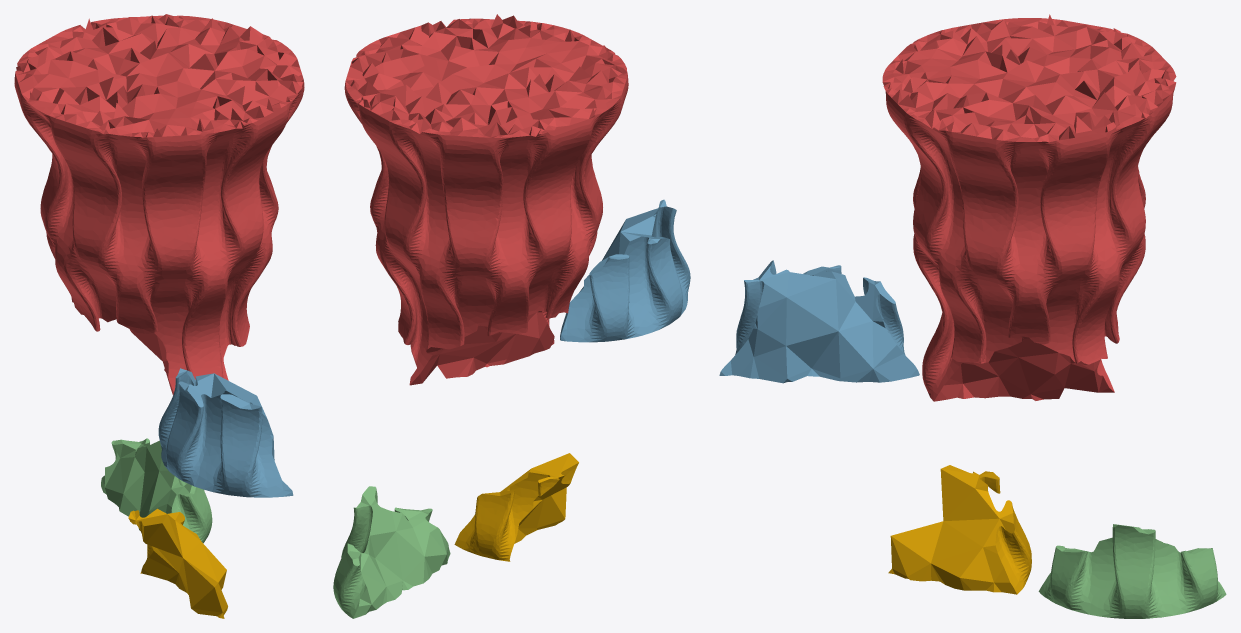
The model's file is mode_6_4pcs_transformed.glb.
3 views of the same model, side by side, from view 1: azimuth 30°, elevation 25°; view 2: azimuth 150°, elevation 25°; view 3: azimuth 270°, elevation 25° (orthographic). The views are drawn at different scales.
Visible parts, largest first — view 1: piece_1.obj, piece_2.obj, piece_3.obj, piece_0.obj; view 2: piece_1.obj, piece_2.obj, piece_3.obj, piece_0.obj; view 3: piece_1.obj, piece_2.obj, piece_3.obj, piece_0.obj.
Part boxes in pixels (<box>): piece_1.obj: <box>14,14,304,395</box>; piece_2.obj: <box>158,368,293,497</box>; piece_3.obj: <box>101,438,212,543</box>; piece_0.obj: <box>128,508,227,618</box>; piece_1.obj: <box>344,14,628,385</box>; piece_2.obj: <box>560,199,690,342</box>; piece_3.obj: <box>333,486,450,618</box>; piece_0.obj: <box>454,453,578,561</box>; piece_1.obj: <box>882,14,1176,401</box>; piece_2.obj: <box>719,260,919,383</box>; piece_3.obj: <box>1038,524,1226,618</box>; piece_0.obj: <box>888,465,1031,594</box>.
Size of the model in its own units: 0.842 by 1.6 by 1.45.
